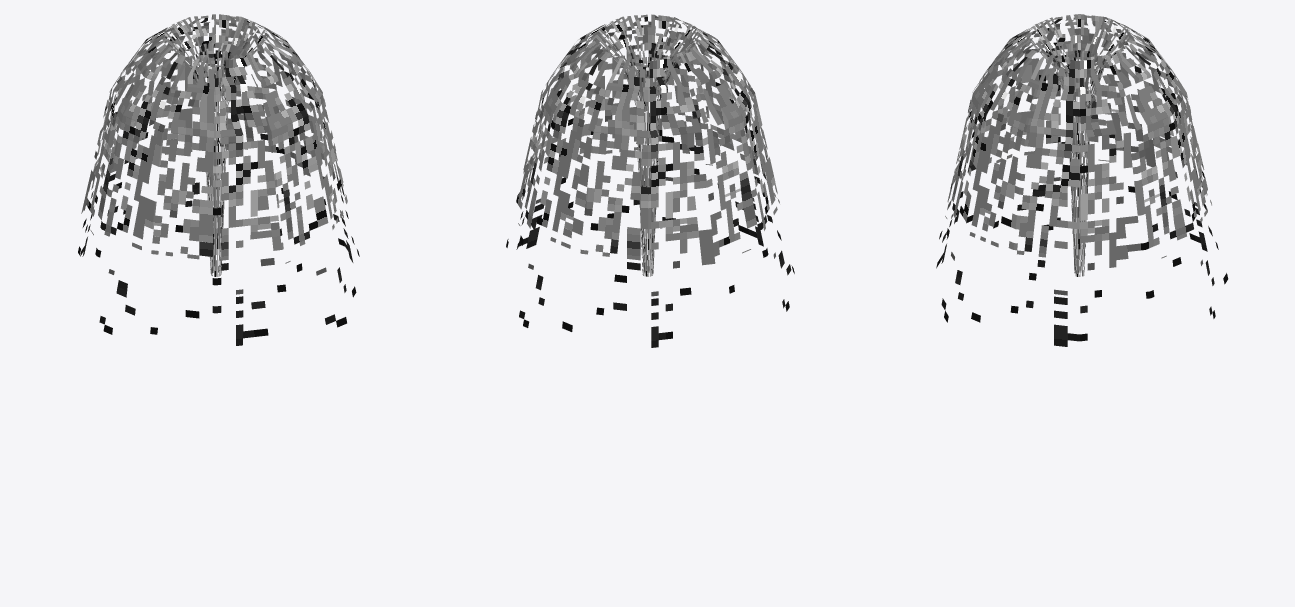
File: uvmd-0173.glb
The picture shows the model from 3 angles, left to right: view 1: azimuth 30°, elevation 25°; view 2: azimuth 150°, elevation 25°; view 3: azimuth 270°, elevation 25°; orthographic projection.
Parts seen in each view (by area): view 1: uvmd-0173; view 2: uvmd-0173; view 3: uvmd-0173.
Boxes of the visible parts, x1,y1,x2,y2 form: uvmd-0173: [78, 14, 359, 345]; uvmd-0173: [506, 14, 794, 347]; uvmd-0173: [936, 14, 1228, 346].
Bounding box in the file's own units: 330 × 427 × 330.
1 material, 1 textured.
